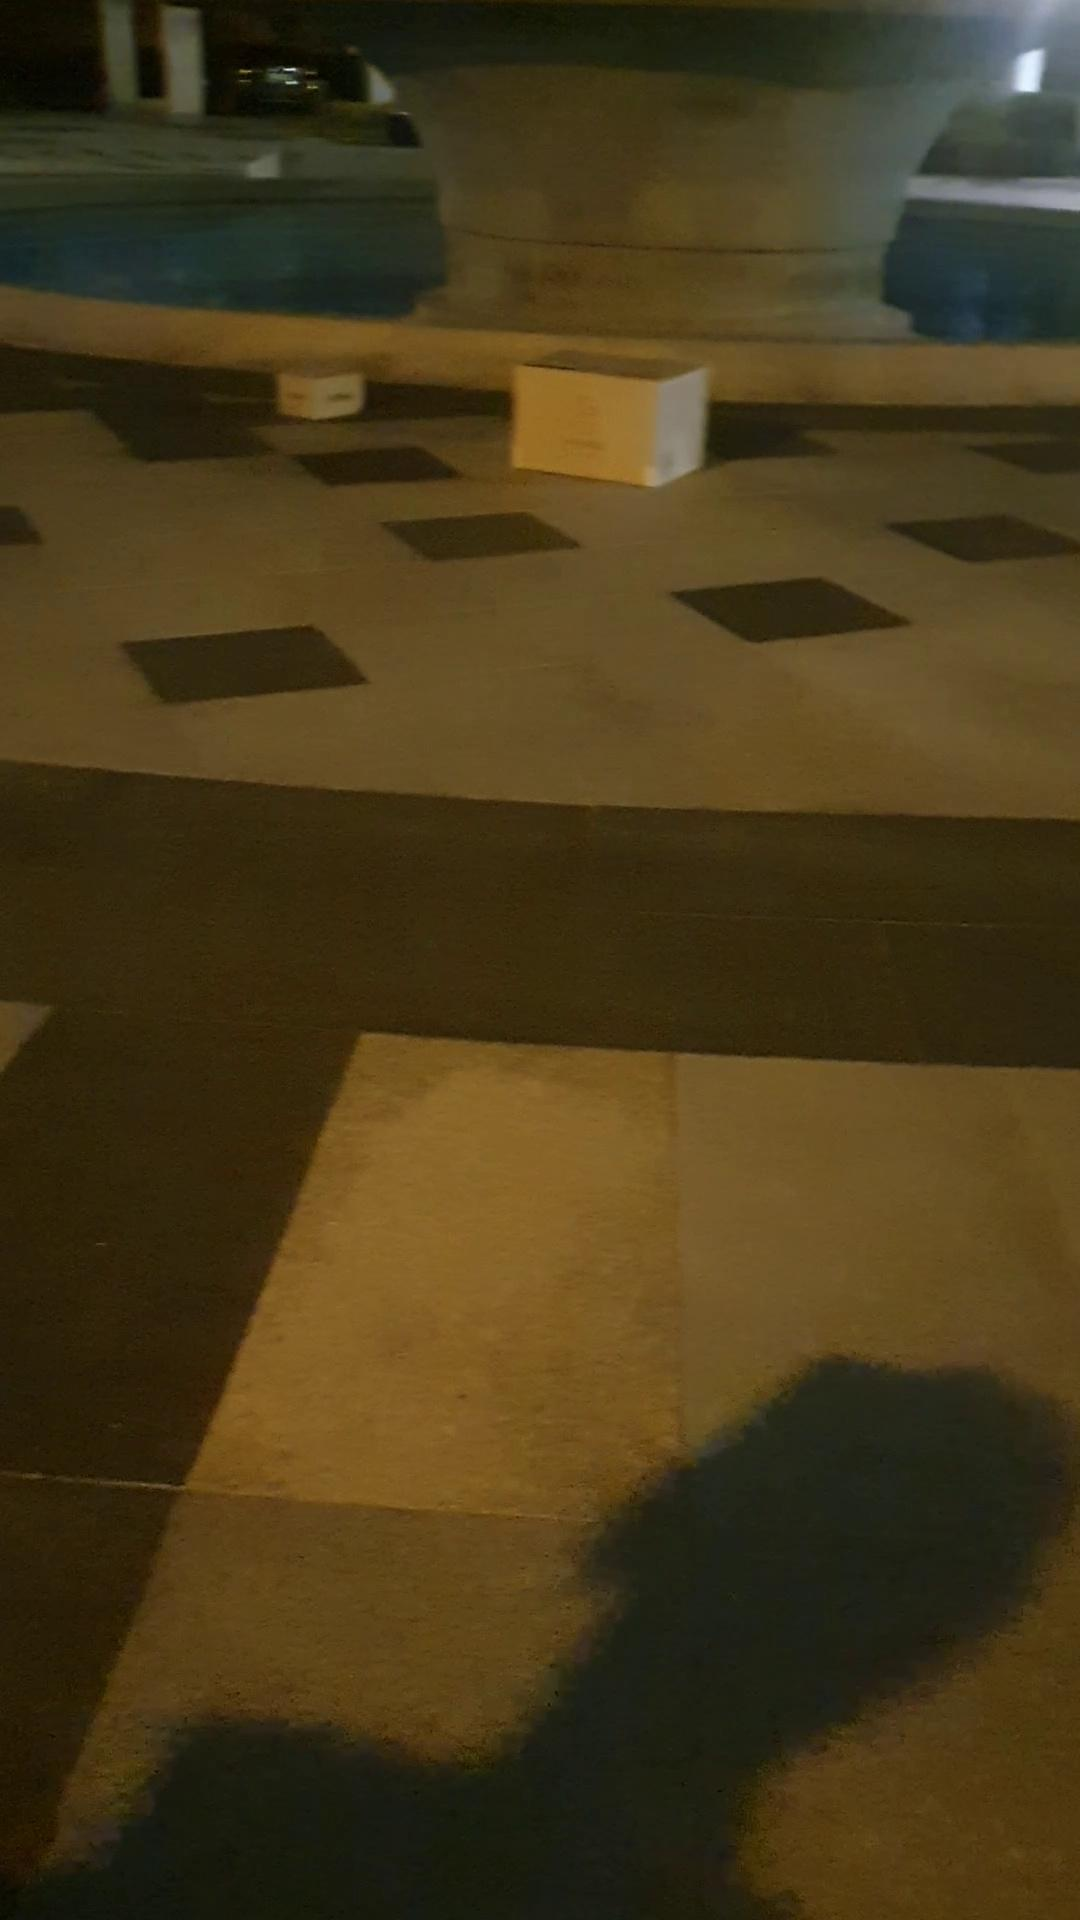Box: (496, 349, 715, 491), (272, 355, 375, 427)
